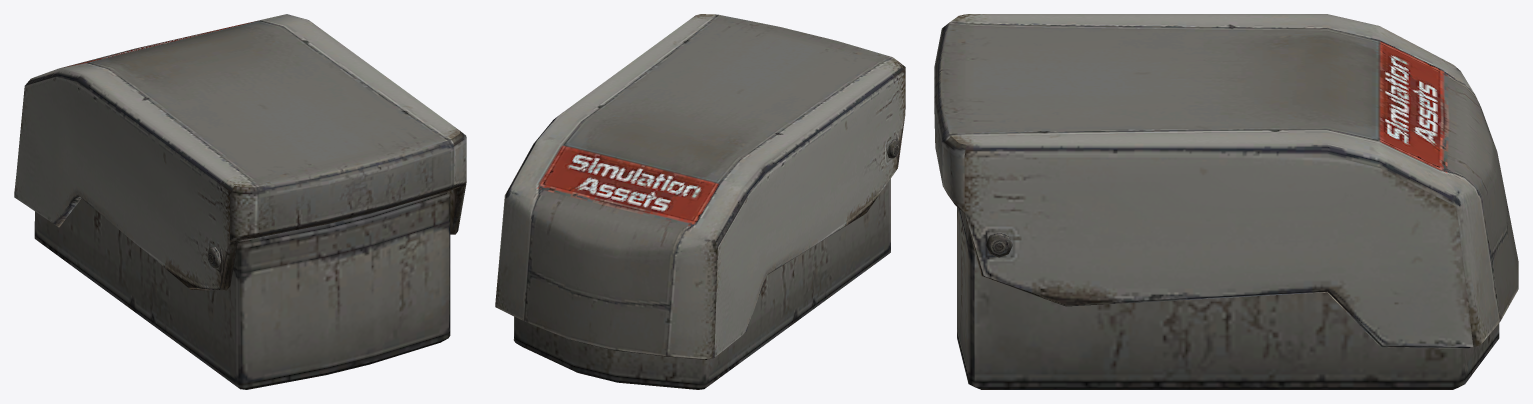
Rendered from box_simulation_assets.dae.
3 renders of one model, left to right at view 1: azimuth 30°, elevation 25°; view 2: azimuth 150°, elevation 25°; view 3: azimuth 270°, elevation 25°, orthographic. The views are drawn at different scales.
Visible parts, largest first — view 1: box_lid, box_base; view 2: box_lid, box_base; view 3: box_lid, box_base.
Boxes of the visible parts, x1=… form: box_lid: x1=14, y1=14, x2=466, y2=290; box_base: x1=34, y1=191, x2=450, y2=389; box_lid: x1=495, y1=14, x2=905, y2=359; box_base: x1=513, y1=139, x2=899, y2=389; box_lid: x1=934, y1=14, x2=1518, y2=348; box_base: x1=957, y1=207, x2=1499, y2=389.
Size of the model in its own units: 0.3486 by 0.2857 by 0.6013.
